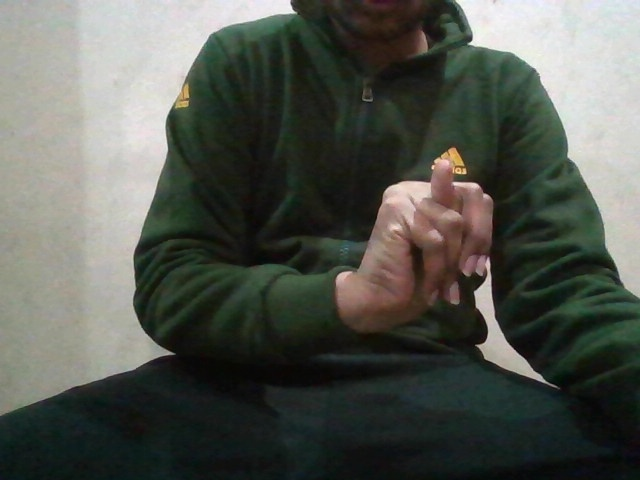N: (359, 159, 502, 323)
